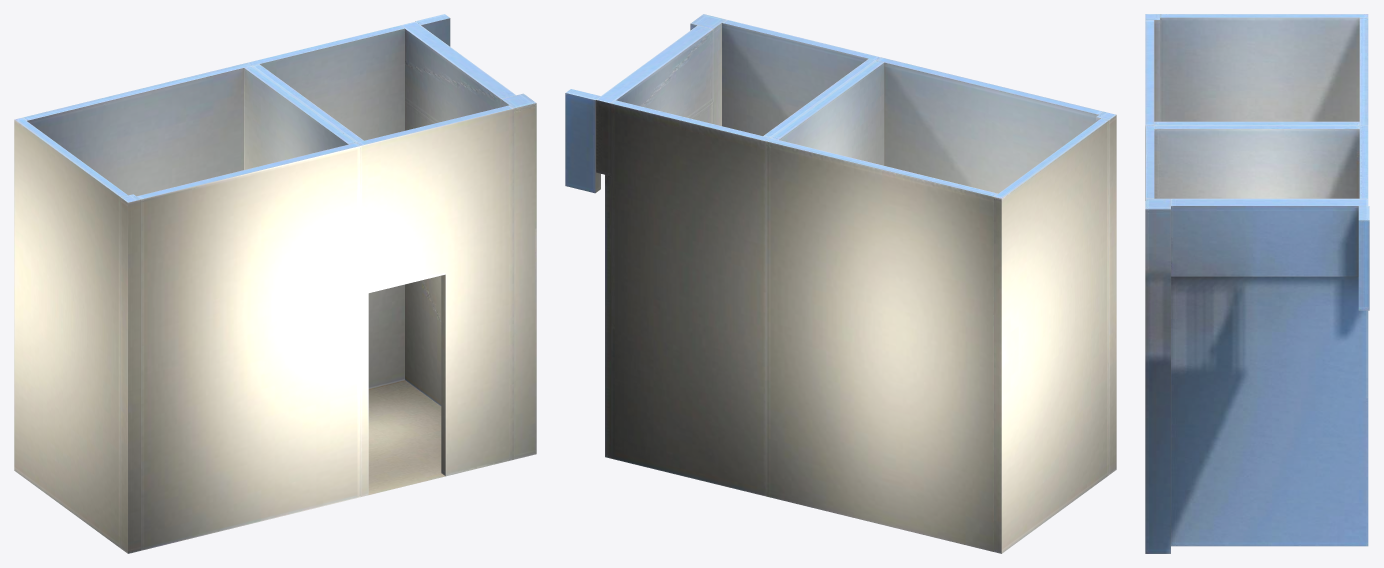
3 views of the same model, side by side, from view 1: azimuth 30°, elevation 25°; view 2: azimuth 150°, elevation 25°; view 3: azimuth 270°, elevation 25° (orthographic). The views are drawn at different scales.
Visible parts, largest first — view 1: hc_1floor_room004 (1)_1, hc_1floor_room005 (1)_2; view 2: hc_1floor_room004 (1)_1, hc_1floor_room005 (1)_2; view 3: hc_1floor_room005 (1)_2, hc_1floor_room004 (1)_1.
Part boxes in pixels (box(x1,y1,x2,y2)): hc_1floor_room004 (1)_1: box(14, 63, 360, 553); hc_1floor_room005 (1)_2: box(247, 14, 536, 496); hc_1floor_room004 (1)_1: box(766, 57, 1116, 553); hc_1floor_room005 (1)_2: box(565, 14, 880, 496); hc_1floor_room005 (1)_2: box(1145, 125, 1369, 553); hc_1floor_room004 (1)_1: box(1145, 14, 1368, 200).
Size of the model in its own units: 0.67 by 0.5218 by 0.3075.
